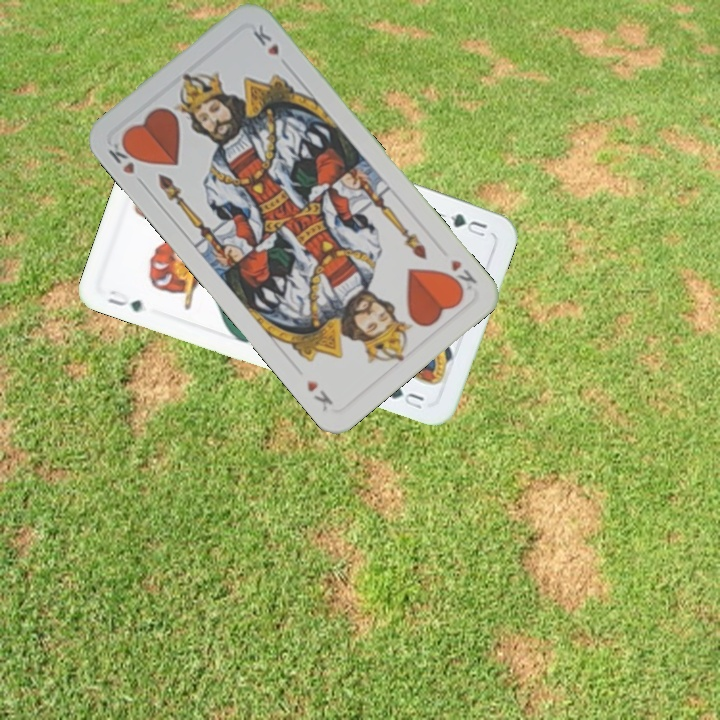GU: (446, 209, 490, 240), (103, 286, 145, 315)
HK: (104, 134, 143, 177), (441, 255, 480, 296)
